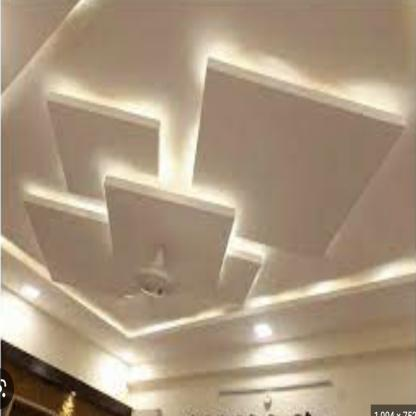Gypsum Board: (0, 0, 416, 366)
